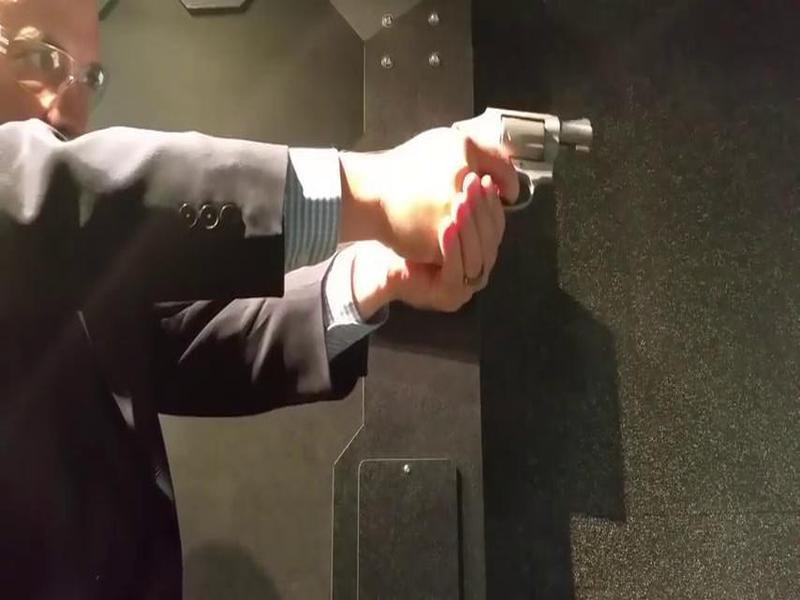Revolver: (423, 94, 597, 234)
